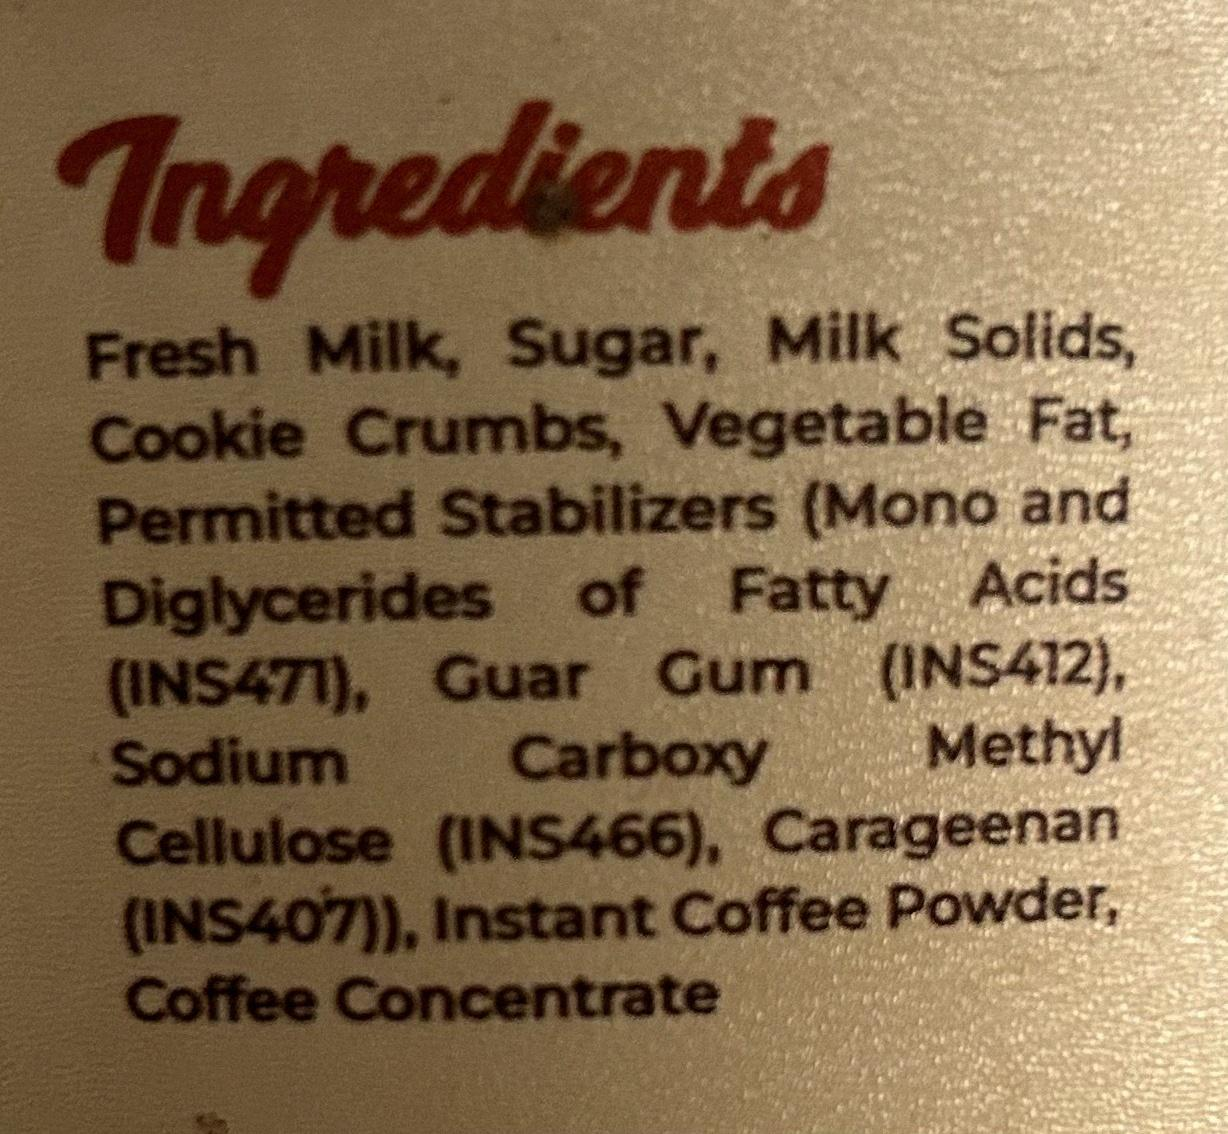ingredients: (55, 62, 1196, 1061)
